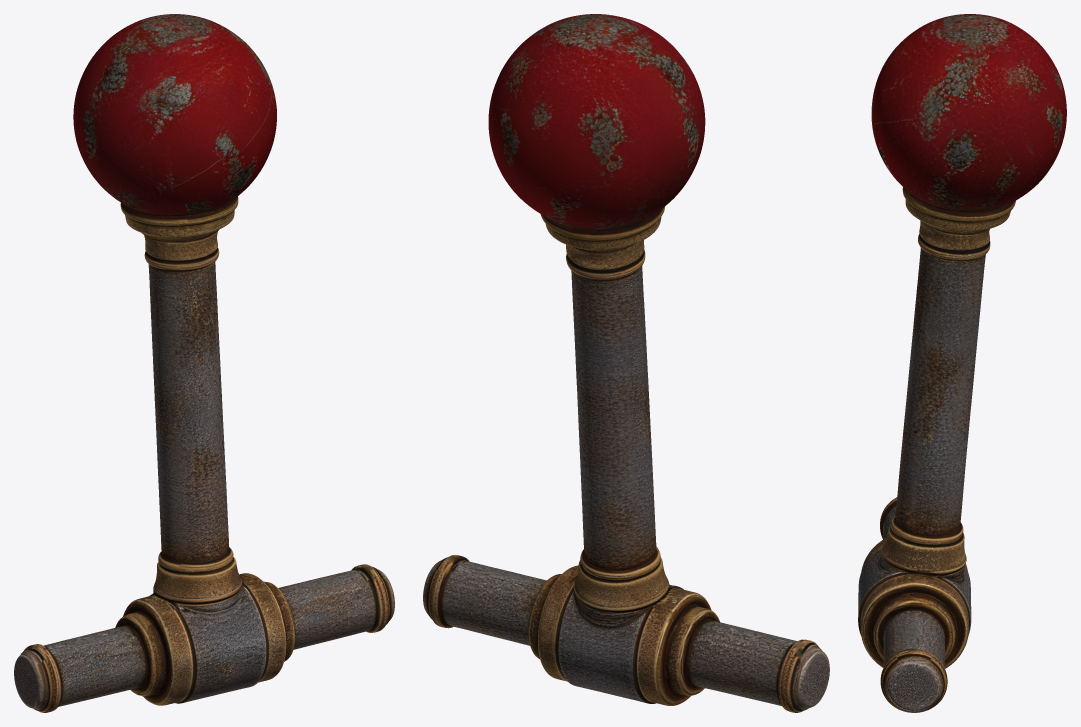
File: lever.glb
3 views of the same model, side by side, from view 1: azimuth 30°, elevation 25°; view 2: azimuth 150°, elevation 25°; view 3: azimuth 270°, elevation 25° (orthographic). The views are drawn at different scales.
Parts seen in each view (by area): view 1: Mesh_0; view 2: Mesh_0; view 3: Mesh_0.
Boxes of the visible parts, left/top/right/bottom form: Mesh_0: left=14, top=14, right=394, bottom=712; Mesh_0: left=423, top=14, right=829, bottom=712; Mesh_0: left=858, top=14, right=1066, bottom=712.
Size of the model in its own units: 0.6377 by 1.1 by 0.3309.
Materials: 1 (1 with a texture image).
